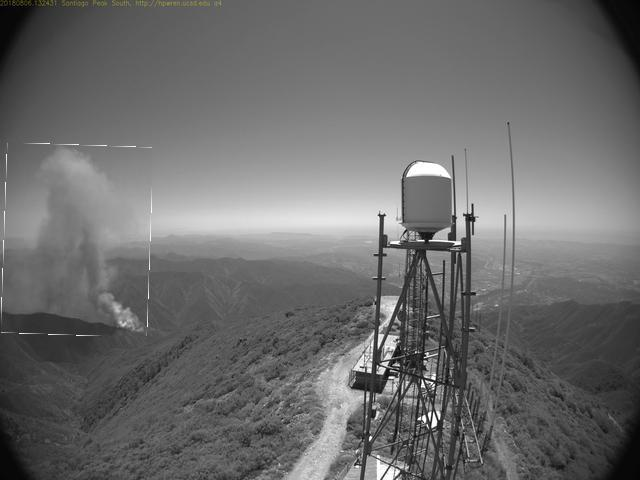smoke: (4, 145, 153, 337)
